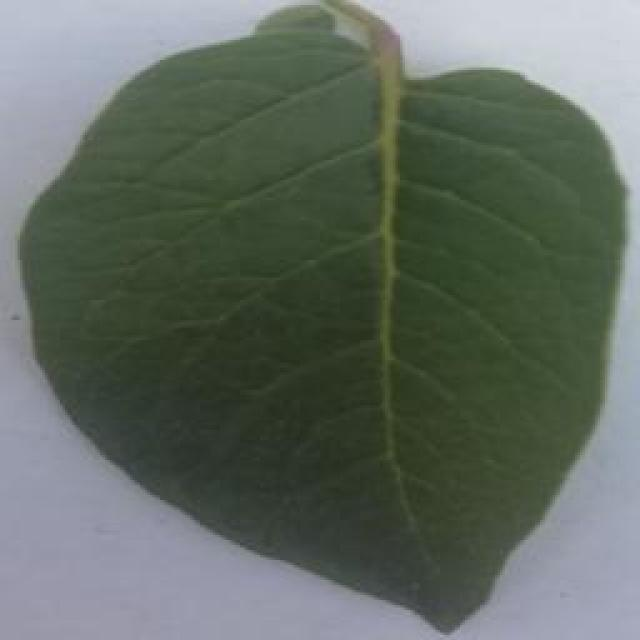Potato_Healthy: (16, 8, 618, 634)
